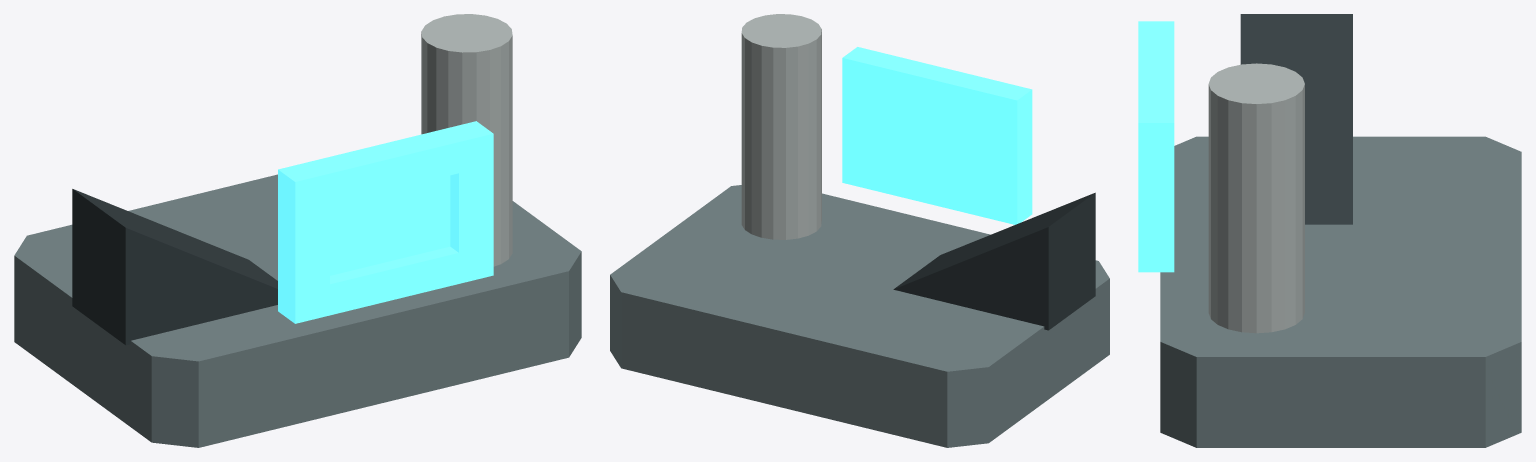
Rendered from refinery-processor-hard-surface-reference-lod0.glb.
3 renders of one model, left to right at view 1: azimuth 30°, elevation 25°; view 2: azimuth 150°, elevation 25°; view 3: azimuth 270°, elevation 25°, orthographic. The views are drawn at different scales.
Visible parts, largest first — view 1: refinery-processor-core, refinery-processor-inset-control-panel, refinery-processor-wedge-armor, refinery-processor-service-pipe; view 2: refinery-processor-core, refinery-processor-inset-control-panel, refinery-processor-service-pipe, refinery-processor-wedge-armor; view 3: refinery-processor-core, refinery-processor-service-pipe, refinery-processor-wedge-armor, refinery-processor-inset-control-panel.
Boxes of the visible parts, <box> form: refinery-processor-core: <box>14,174,581,447</box>; refinery-processor-inset-control-panel: <box>278,121,493,323</box>; refinery-processor-wedge-armor: <box>72,189,277,345</box>; refinery-processor-service-pipe: <box>421,14,512,266</box>; refinery-processor-core: <box>610,185,1109,447</box>; refinery-processor-inset-control-panel: <box>842,47,1032,224</box>; refinery-processor-service-pipe: <box>741,14,821,239</box>; refinery-processor-wedge-armor: <box>893,192,1095,330</box>; refinery-processor-core: <box>1160,136,1521,447</box>; refinery-processor-service-pipe: <box>1208,63,1304,333</box>; refinery-processor-wedge-armor: <box>1240,14,1352,224</box>; refinery-processor-inset-control-panel: <box>1138,21,1174,272</box>.
Size of the model in its own units: 2.63 by 1.76 by 1.91.
